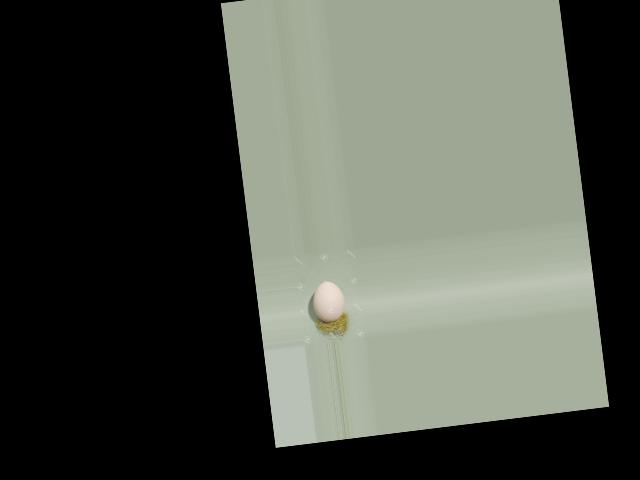egg: (310, 279, 346, 323)
